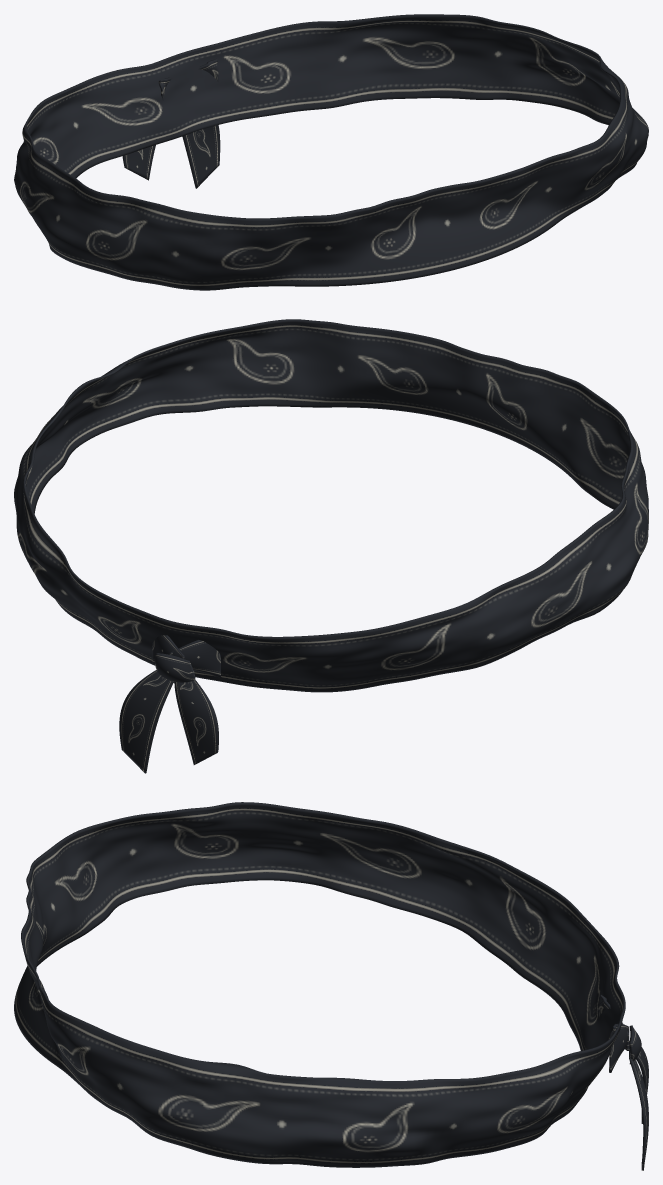
Rendered from Masculine-afro-bandana.glb.
The picture shows the model from 3 angles, top to bottom: view 1: azimuth 30°, elevation 25°; view 2: azimuth 150°, elevation 25°; view 3: azimuth 270°, elevation 25°; orthographic projection. The views are drawn at different scales.
Visible parts, largest first — view 1: Bandana / folded wrap, Bandana / hemmed tail 1, Bandana / hemmed tail -1; view 2: Bandana / folded wrap, Bandana / hemmed tail 1, Bandana / hemmed tail -1, Bandana / gathered fold -1, Bandana / rounded knot fold; view 3: Bandana / folded wrap, Bandana / hemmed tail 1, Bandana / gathered fold 1.
Part boxes in pixels (<box>): Bandana / folded wrap: <box>14,14,648,290</box>; Bandana / hemmed tail 1: <box>182,125,220,188</box>; Bandana / hemmed tail -1: <box>122,145,155,180</box>; Bandana / folded wrap: <box>14,319,648,692</box>; Bandana / hemmed tail 1: <box>119,670,173,773</box>; Bandana / hemmed tail -1: <box>174,680,218,764</box>; Bandana / gathered fold -1: <box>169,640,220,677</box>; Bandana / rounded knot fold: <box>154,653,195,682</box>; Bandana / folded wrap: <box>14,802,625,1167</box>; Bandana / hemmed tail 1: <box>629,1049,648,1170</box>; Bandana / gathered fold 1: <box>609,1024,629,1072</box>.
Size of the model in its own units: 0.9154 by 0.3406 by 0.8293.
Materials: 1 (1 with a texture image).
